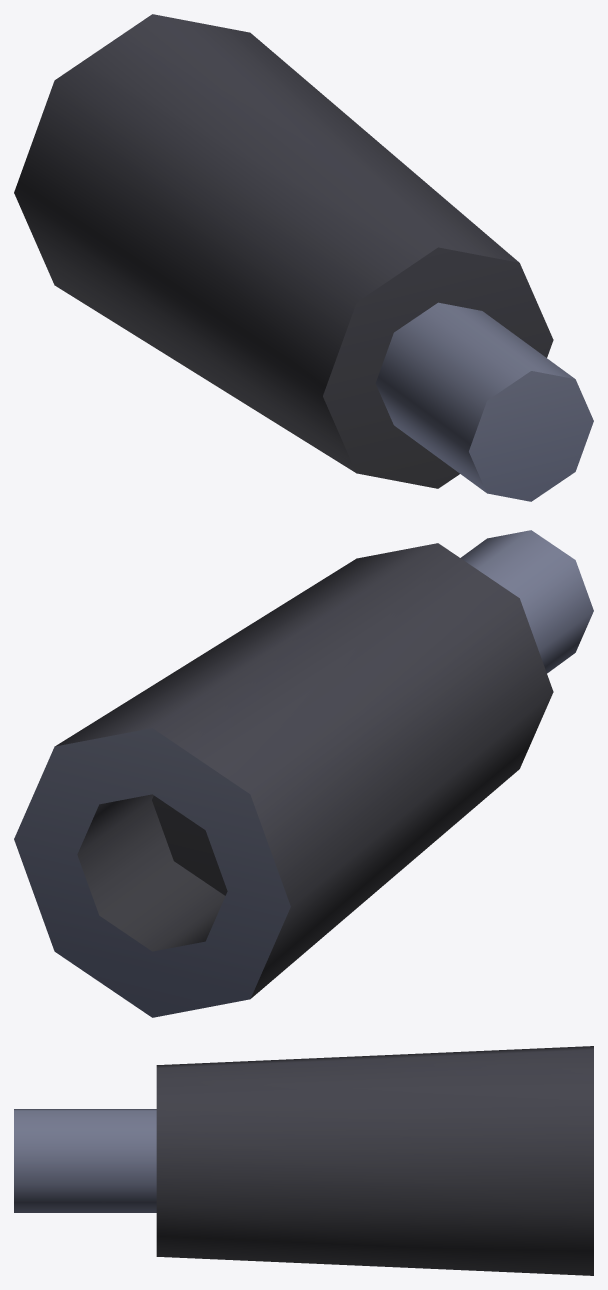
Rendered from silencer-small.glb.
The picture shows the model from 3 angles, top to bottom: view 1: azimuth 30°, elevation 25°; view 2: azimuth 150°, elevation 25°; view 3: azimuth 270°, elevation 25°; orthographic projection. The views are drawn at different scales.
Parts seen in each view (by area): view 1: silencer-small; view 2: silencer-small; view 3: silencer-small.
Boxes of the visible parts, x1=… form: silencer-small: x1=14, y1=14, x2=593, y2=501; silencer-small: x1=14, y1=530, x2=593, y2=1017; silencer-small: x1=14, y1=1046, x2=593, y2=1275.
Size of the model in its own units: 0.103 by 0.103 by 0.244.
1 material, 1 textured.
